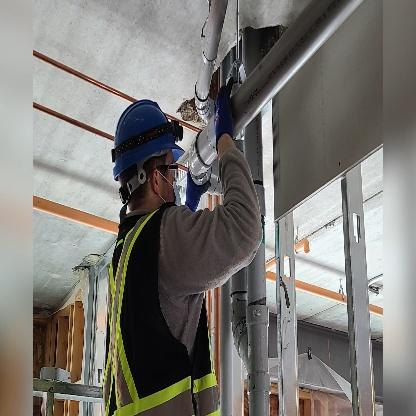helmet: (99, 93, 197, 211)
